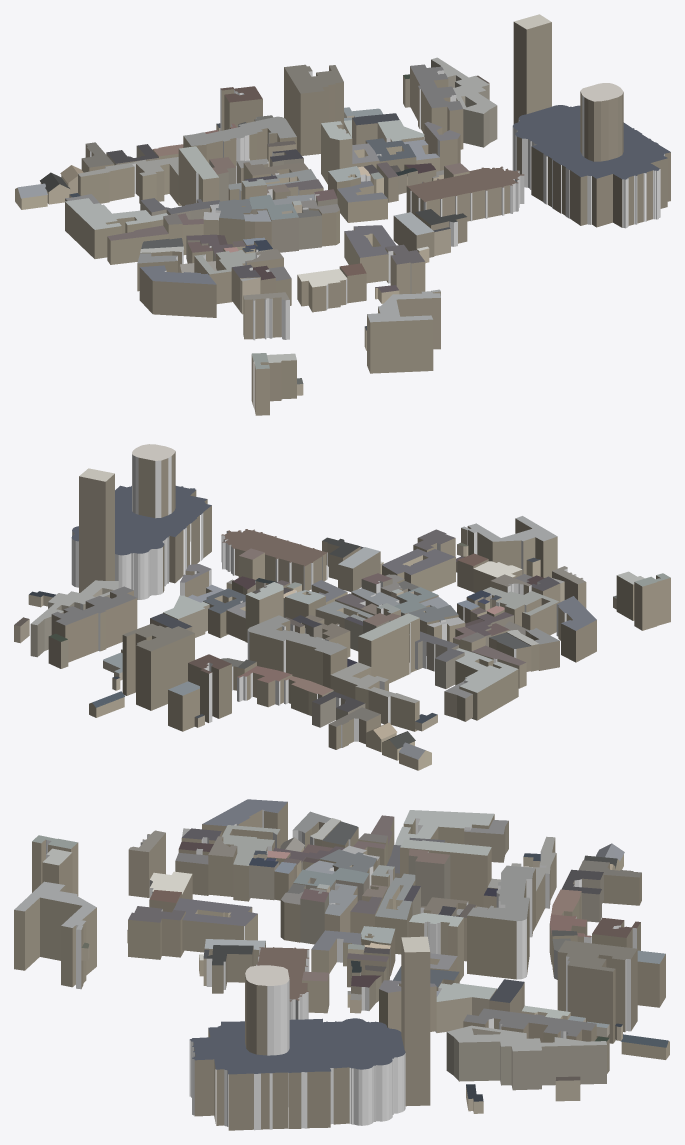
The picture shows the model from 3 angles, top to bottom: view 1: azimuth 30°, elevation 25°; view 2: azimuth 150°, elevation 25°; view 3: azimuth 270°, elevation 25°; orthographic projection. The views are drawn at different scales.
Parts seen in each view (by area): view 1: tuile; view 2: tuile; view 3: tuile.
Part boxes in pixels (box(x1,y1,x2,y2)): tuile: box(15, 14, 670, 415); tuile: box(14, 444, 670, 770); tuile: box(14, 799, 669, 1130).
Size of the model in its own units: 273 by 85.32 by 264.
